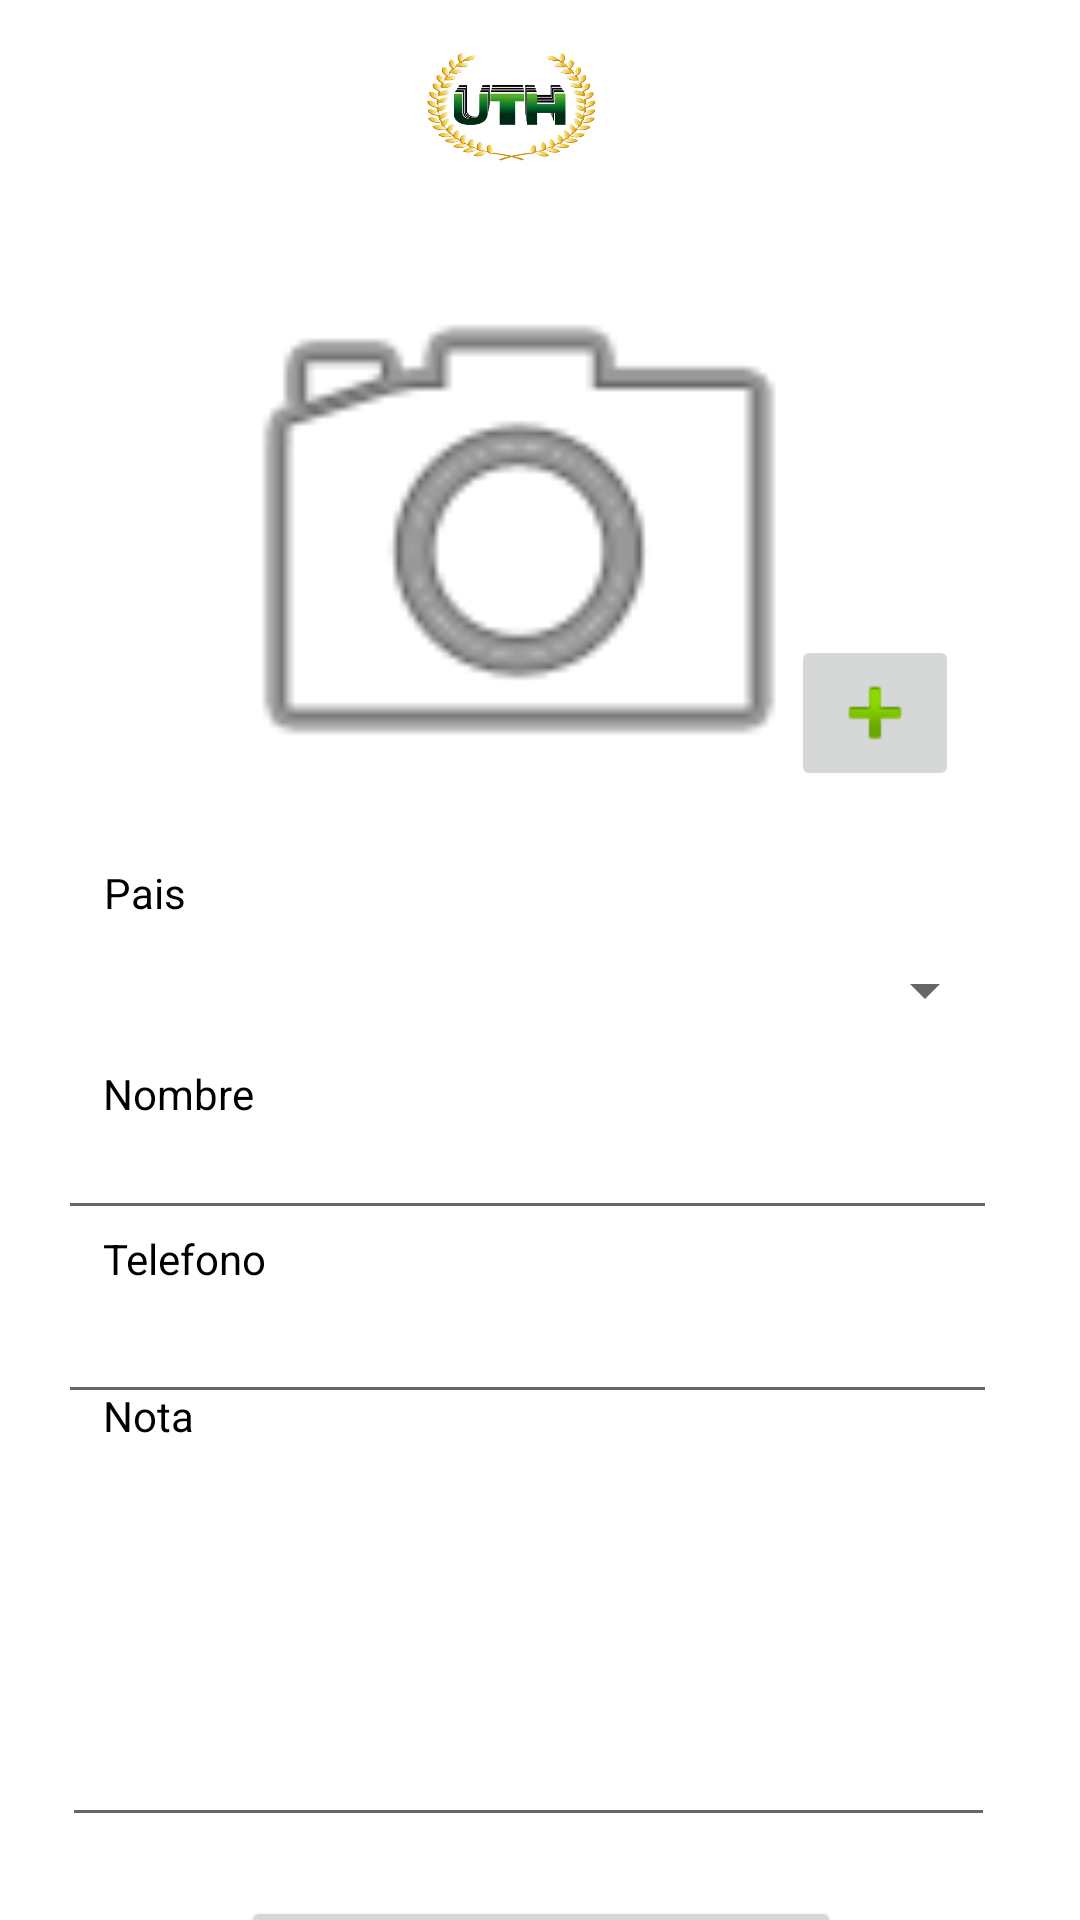

Screen size 1080px×1920px. Icon name, then its box in pixels as (x1, y1, x2, y2):
add: (803, 653, 947, 773)
